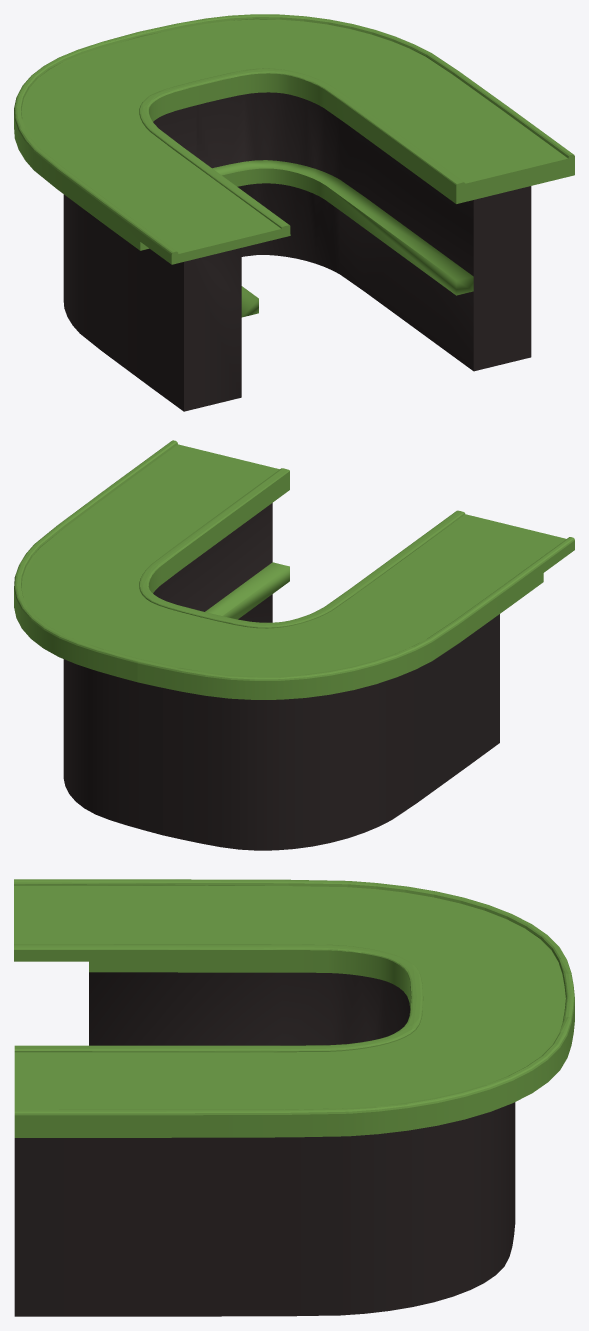
File: 39bc4190-c31c-445f-beb1-8a2647448e34.glb
3 renders of one model, top to bottom at view 1: azimuth 30°, elevation 25°; view 2: azimuth 150°, elevation 25°; view 3: azimuth 270°, elevation 25°, orthographic. The views are drawn at different scales.
Parts seen in each view (by area): view 1: RoundBar.011; view 2: RoundBar.011; view 3: RoundBar.011.
Boxes of the visible parts, <box> form: RoundBar.011: <box>14,14,574,411</box>; RoundBar.011: <box>14,440,574,850</box>; RoundBar.011: <box>14,879,574,1316</box>.
Size of what is drawn, in the model's own units: 2.42 by 1.1 by 2.45.
Materials: 1 (1 with a texture image).
